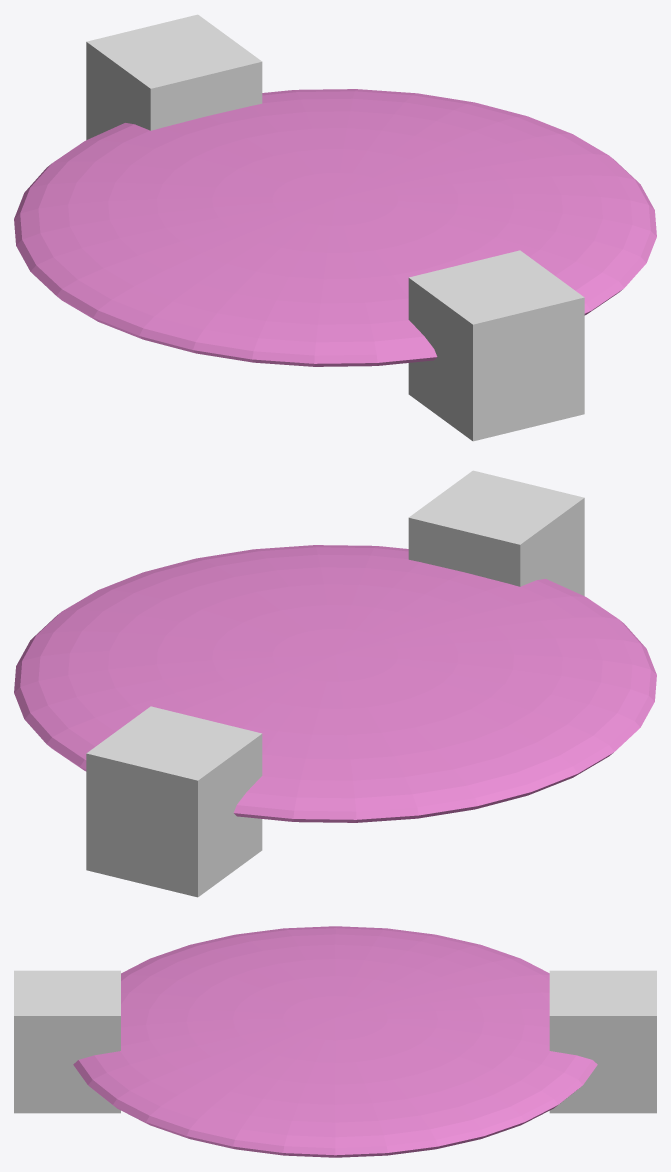
The model's file is example-linked.gltf.
3 renders of one model, top to bottom at view 1: azimuth 30°, elevation 25°; view 2: azimuth 150°, elevation 25°; view 3: azimuth 270°, elevation 25°, orthographic. The views are drawn at different scales.
Parts seen in each view (by area): view 1: Sphere, Cube, Cube.001; view 2: Sphere, Cube.001, Cube; view 3: Sphere, Cube.001, Cube.
Boxes of the visible parts, bbox=[...] form: Sphere: bbox=[14, 89, 656, 366]; Cube: bbox=[408, 250, 584, 441]; Cube.001: bbox=[86, 14, 262, 139]; Sphere: bbox=[14, 545, 656, 822]; Cube.001: bbox=[86, 706, 262, 897]; Cube: bbox=[408, 470, 584, 595]; Sphere: bbox=[73, 926, 597, 1157]; Cube.001: bbox=[549, 970, 656, 1113]; Cube: bbox=[14, 970, 120, 1113].
Size of the model in its own units: 10 by 2 by 12.
